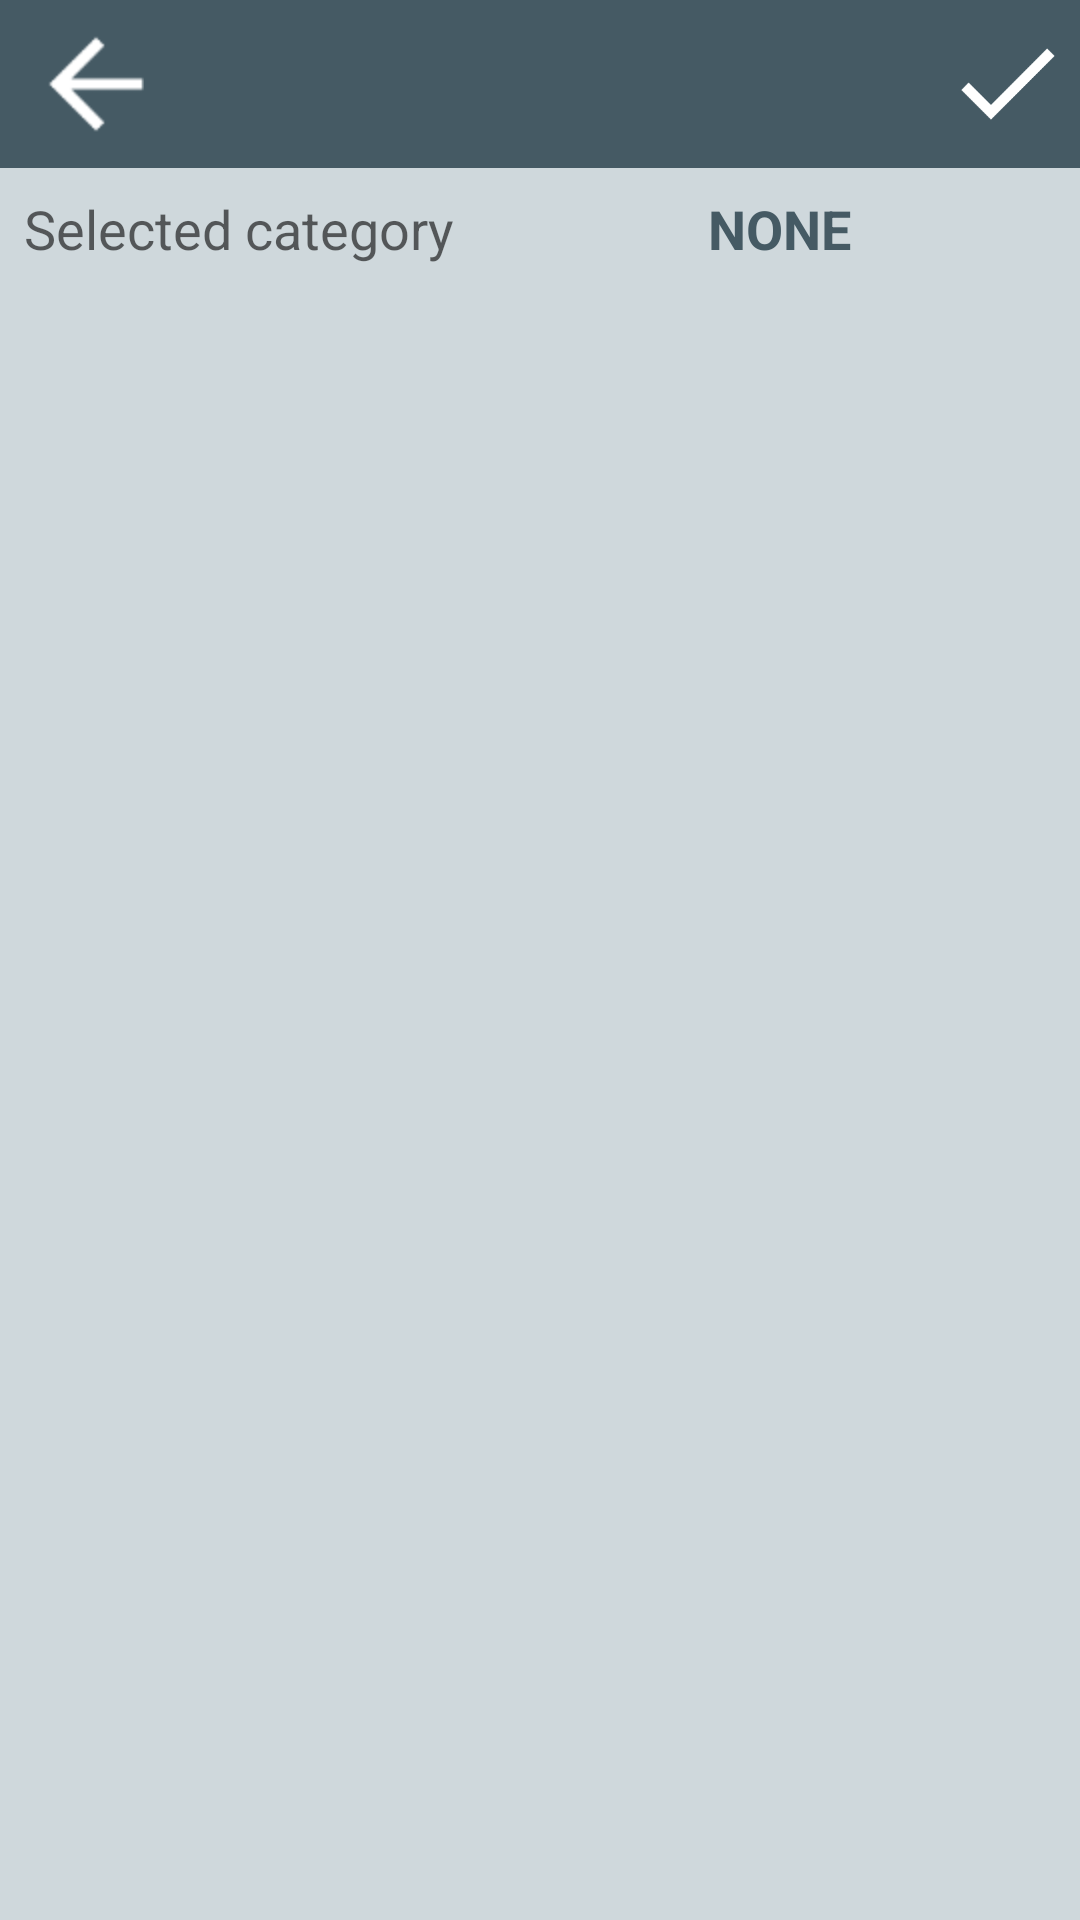

Icon click points for this 1080 x 1920 phone screenshot, format point (x, y):
arrow back: point (96, 84)
done: point (1008, 84)
